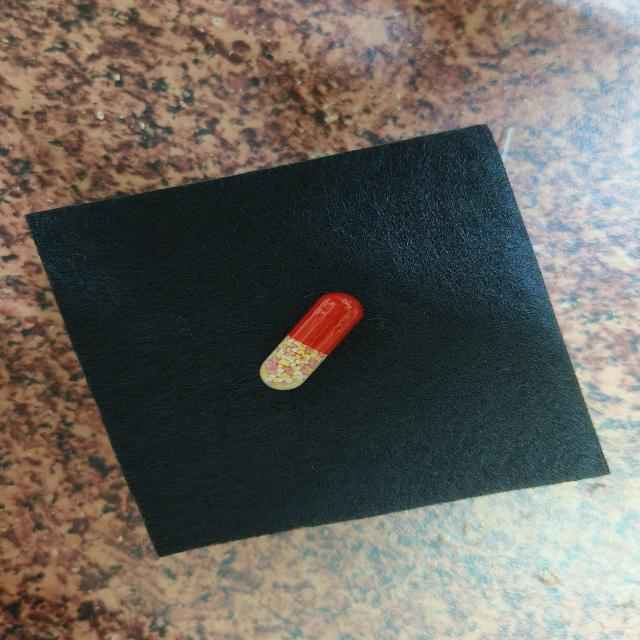Intact Capsule: (259, 292, 364, 390)
